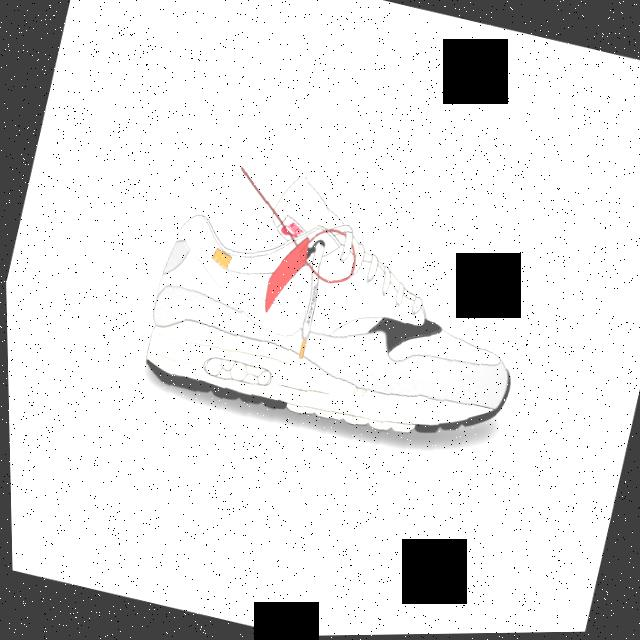shoe: (115, 143, 555, 502)
